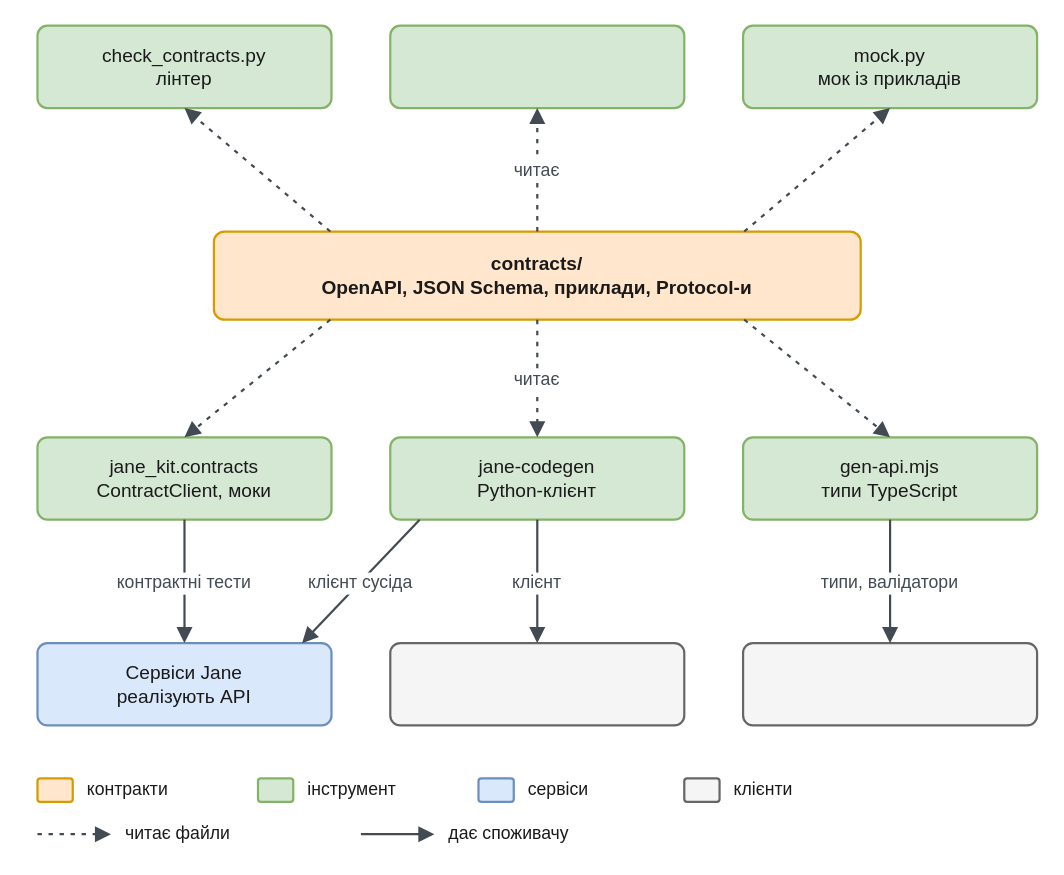
The diagram is 1064 pixels wide and 875 high, and some of its shapes have lost their labels. The centre of each missing label's shape, as x and y in pixels:
Admin UI: the point at 889,683
compat.py зворотна сумісність: the point at 537,66
Сторонній застосунок: the point at 537,683
